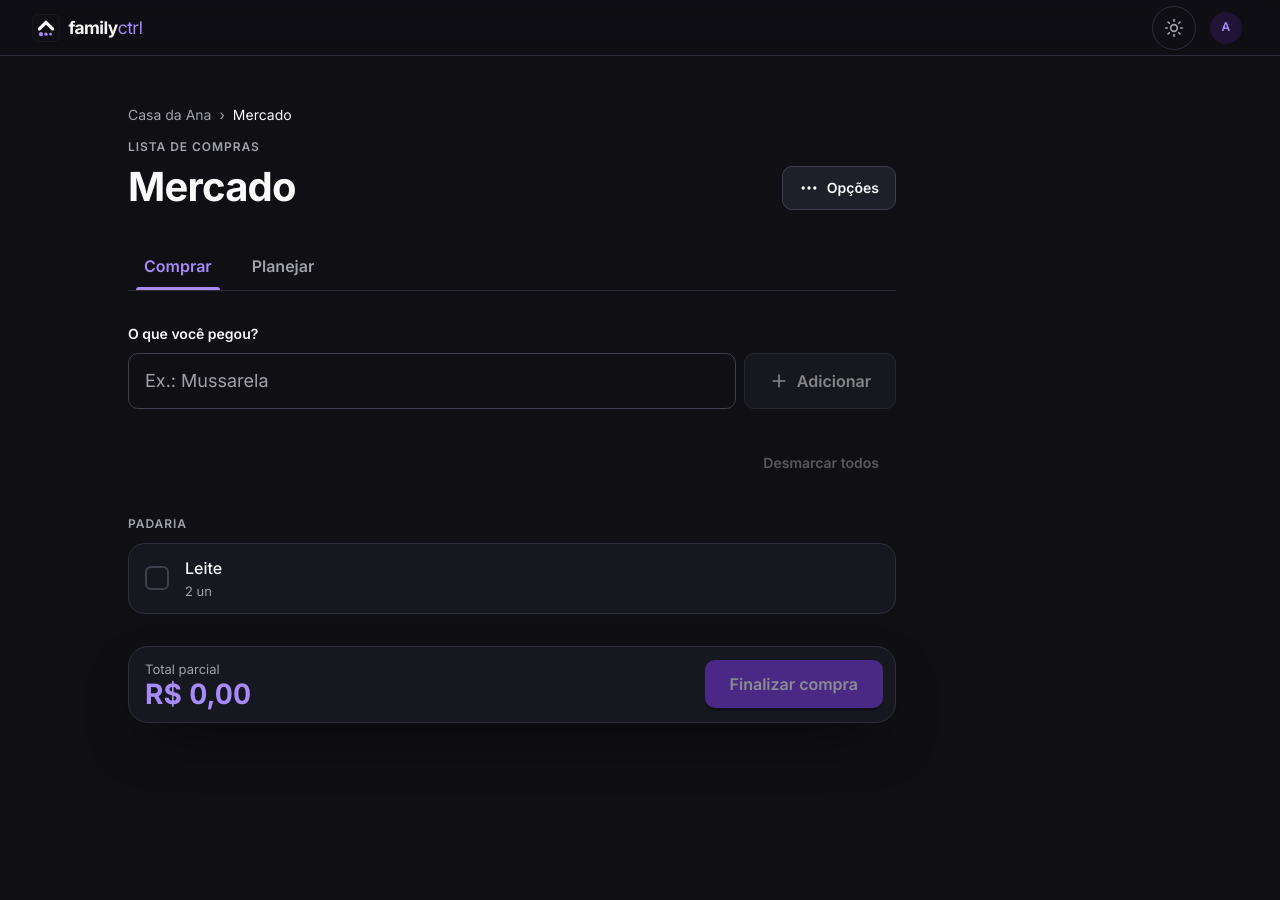
comprar › marca um item pelo formulário e atualiza o total parcial
// O checkbox só abre o formulário: o item fica marcado ao confirmar
Click the checkbox named "Pegar Leite" at (157, 578), box [129, 544, 185, 613]
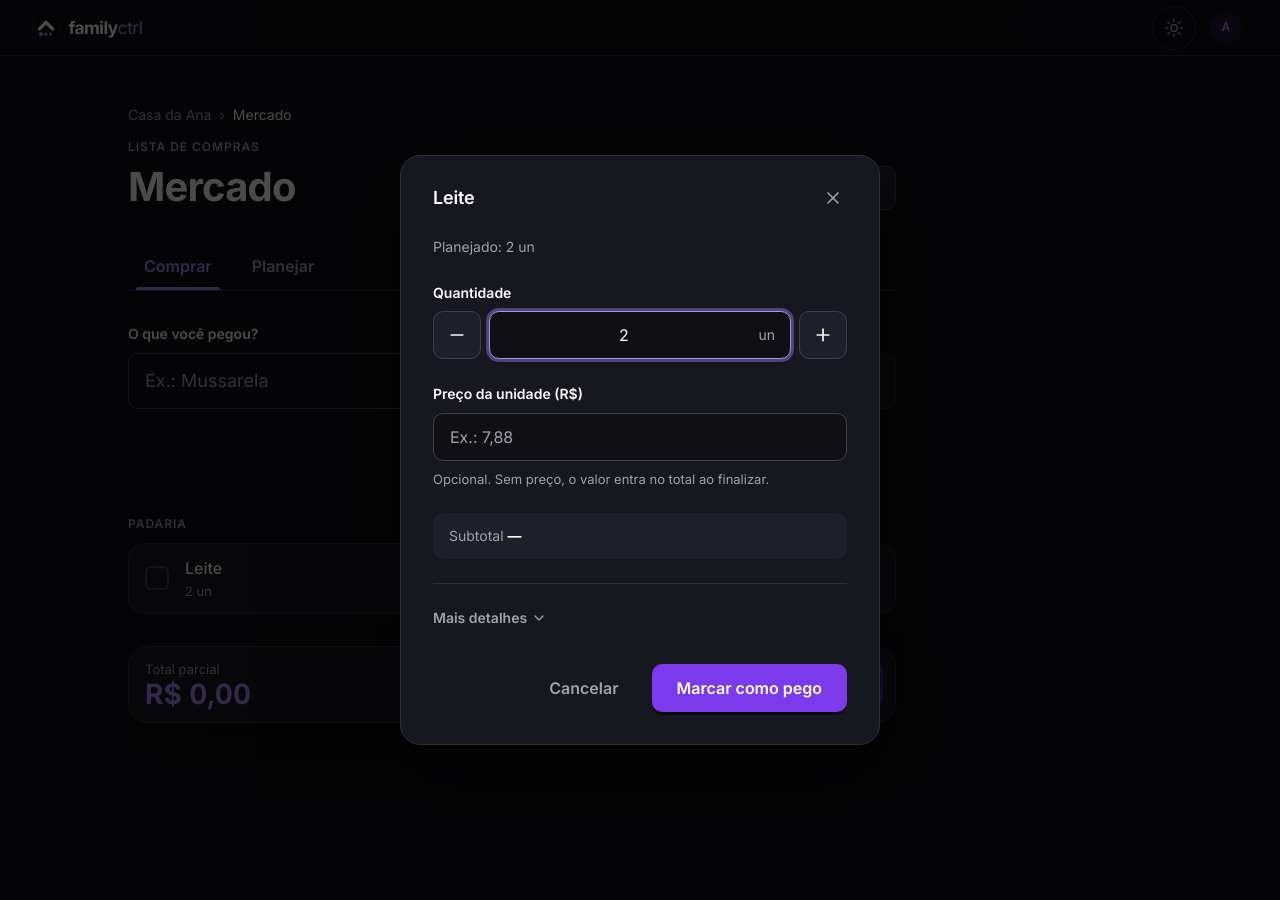
Check: the field labelled "Quantidade" holds "2", box [489, 311, 791, 359]
Type "6,50" into the field labelled "Preço da unidade (R$)" at (640, 437), box [433, 413, 847, 461]
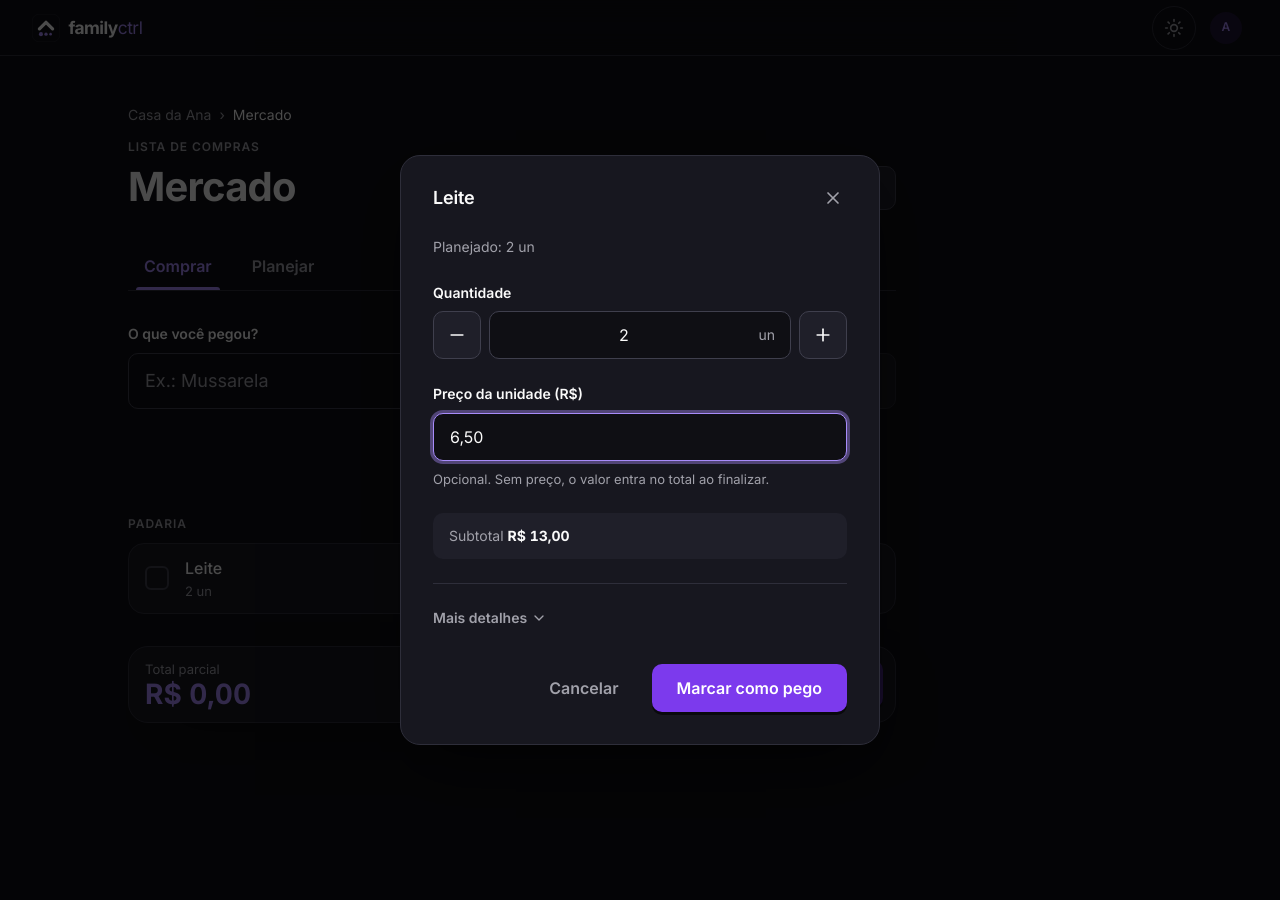
// Marca fica em "Mais detalhes", fechado por padrão
Click the heading "Mais detalhes" at (490, 618), box [433, 609, 547, 626]
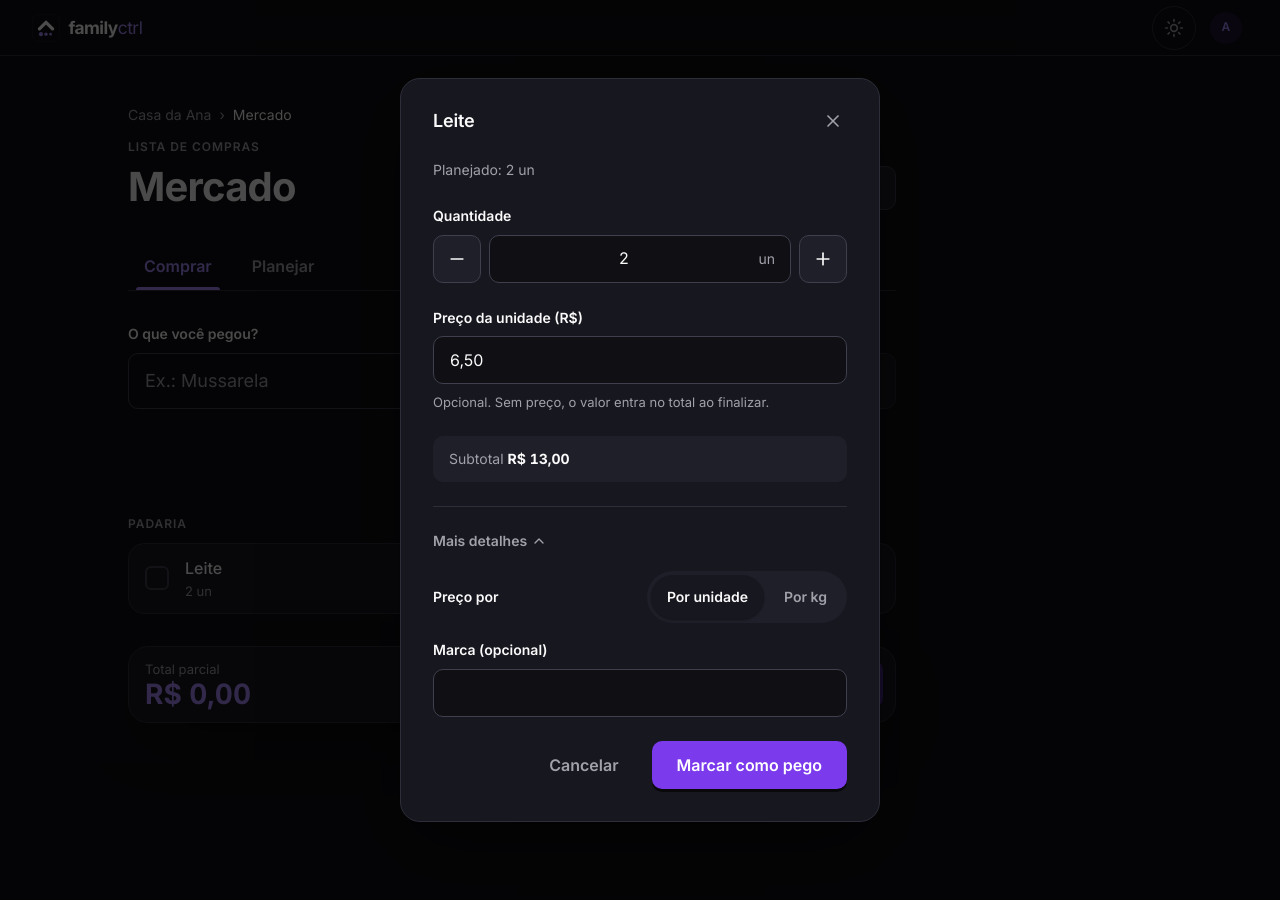
Type "Itambé" into the field labelled "Marca (opcional)" at (640, 693), box [433, 669, 847, 717]
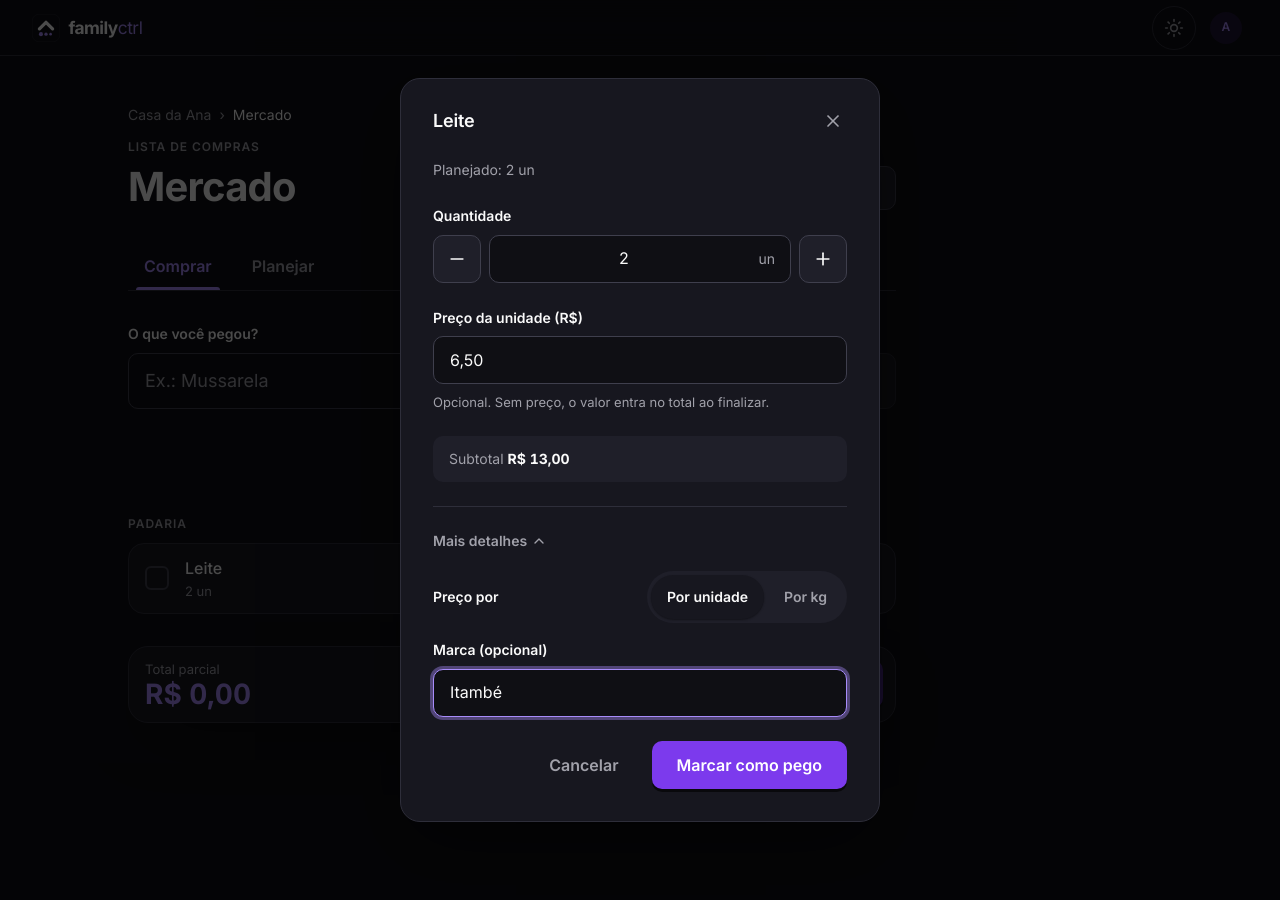
Check: the text "R$ 13,00" is shown, box [508, 450, 570, 467]
Click the button "Marcar como pego" at (749, 765), box [652, 741, 847, 789]
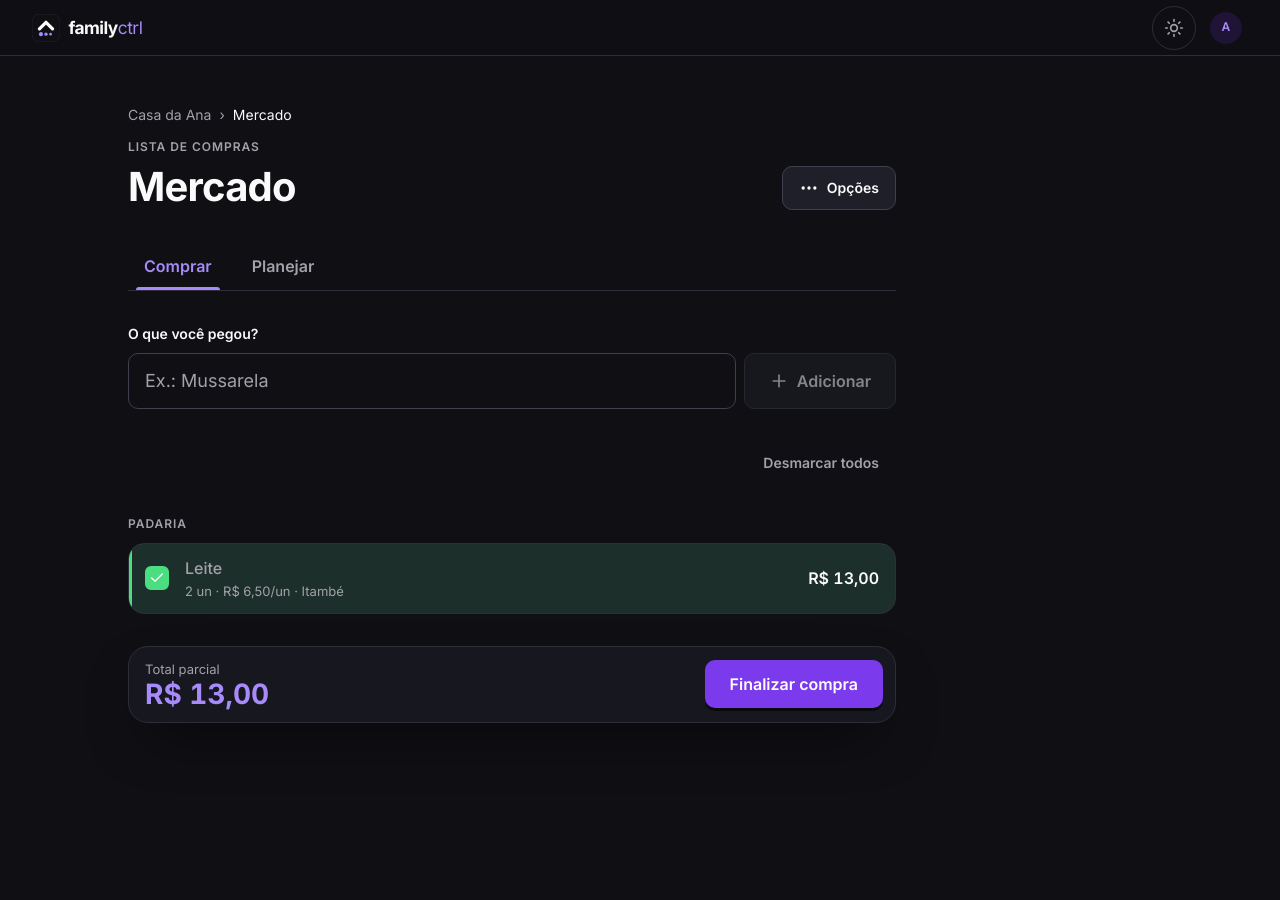
Check: the text "R$ 13,00" below "Total parcial" is shown, box [145, 677, 269, 711]
